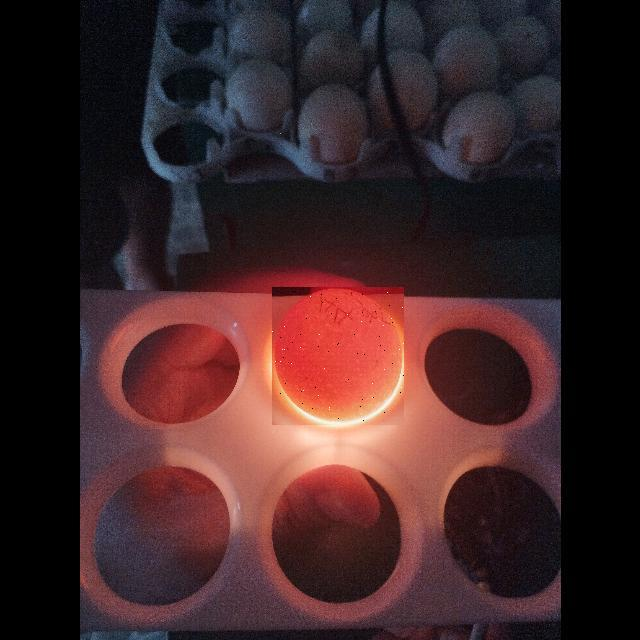A - Good: (272, 287, 404, 425)
